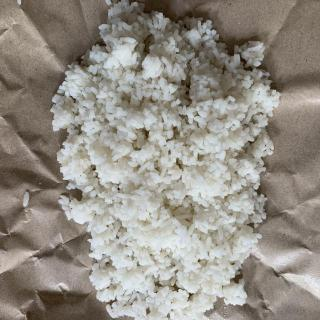Nasi: (56, 1, 278, 320)
